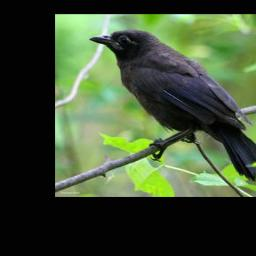Crow: (89, 28, 256, 183)
